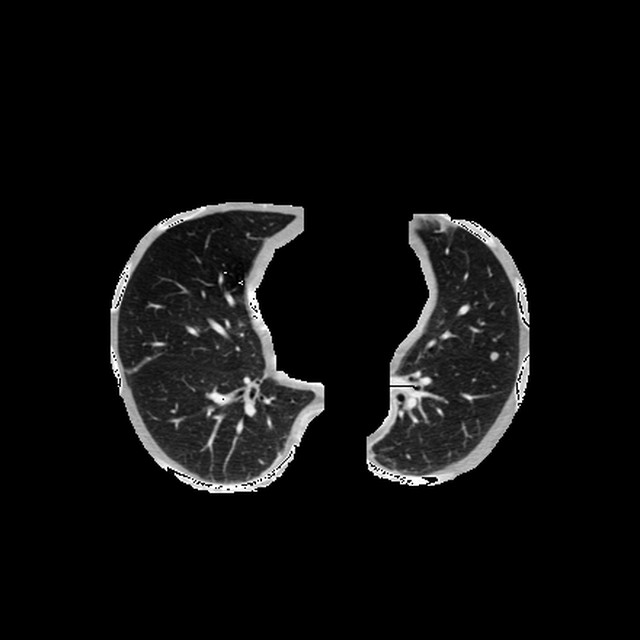PN: (489, 352, 497, 361)
